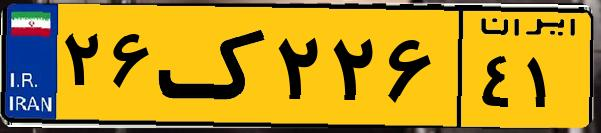1: (525, 38, 570, 115)
2: (270, 28, 330, 110), (330, 28, 385, 110), (57, 26, 110, 100)
4: (475, 38, 525, 113)
6: (385, 28, 445, 110), (110, 28, 158, 98)
ک: (158, 12, 270, 120)
